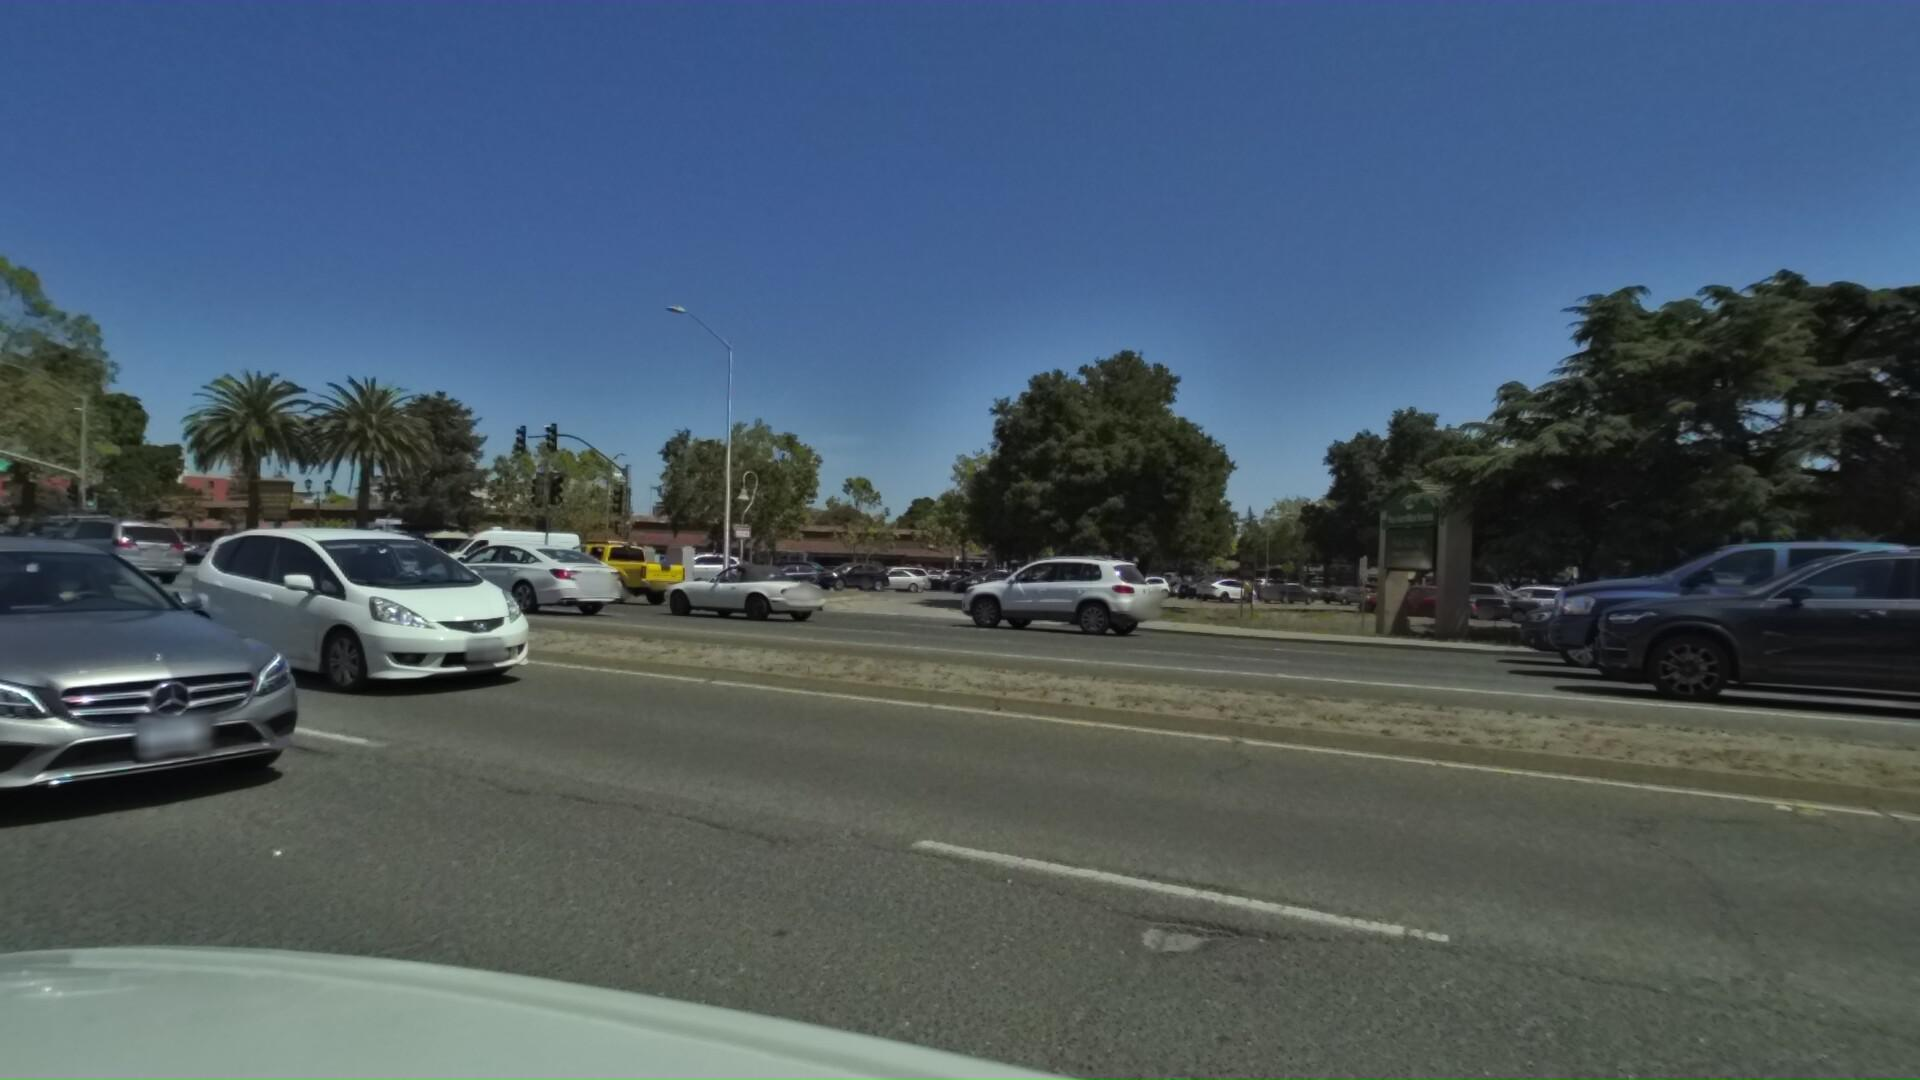car: (1484, 537, 1920, 735), (1458, 526, 1920, 711), (150, 506, 578, 700), (1443, 564, 1807, 684), (913, 547, 1130, 638), (378, 537, 597, 616), (607, 551, 810, 626), (505, 534, 674, 608), (17, 516, 179, 582), (419, 522, 580, 588), (640, 551, 736, 588), (169, 541, 266, 568), (798, 562, 882, 593), (742, 563, 815, 589), (1241, 582, 1305, 608), (1179, 575, 1245, 600), (1104, 578, 1164, 600), (928, 564, 989, 585), (1304, 585, 1360, 608)
